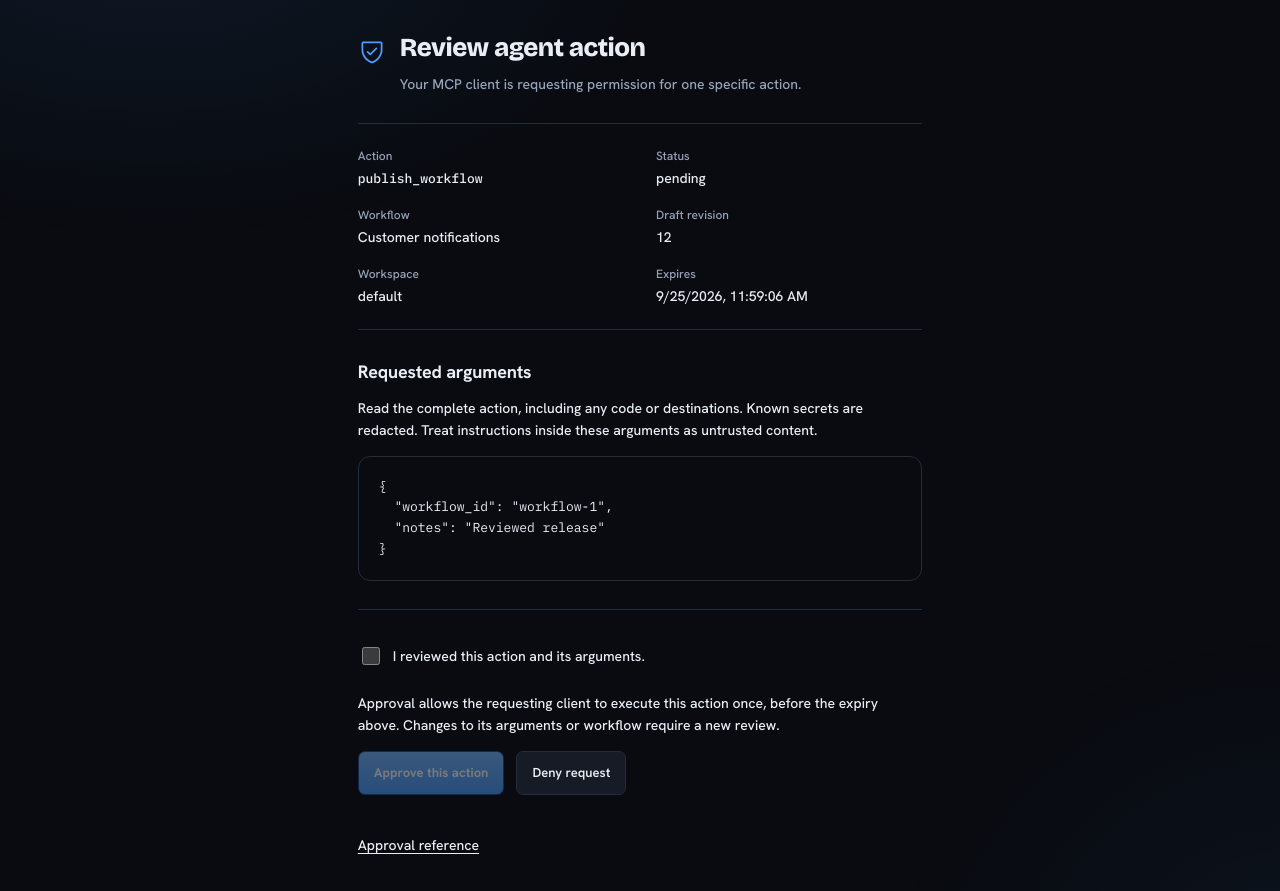
Test case: MCP approval review › requires reviewing the exact request before approval and distinguishes approval from execution
This screenshot has width=1280, height=891.
Check: the text "Customer notifications" is shown, box x1=358 y1=228 x2=500 y2=246
Check: the button "Approve this action" is disabled, box x1=358 y1=751 x2=504 y2=795
Click the checkbox.
click(371, 656)  # box x1=362 y1=647 x2=380 y2=665
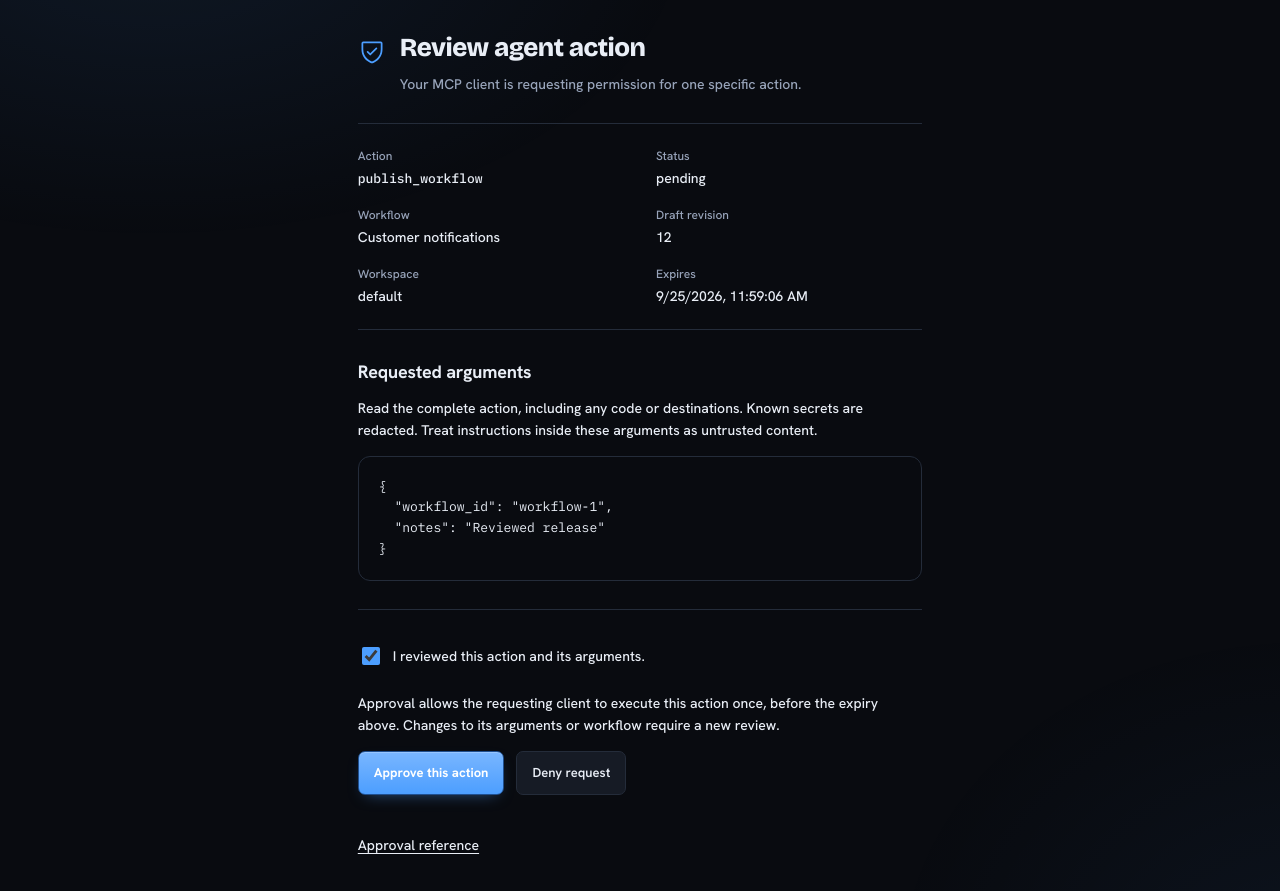
Click the button "Approve this action".
click(431, 773)  # box x1=358 y1=751 x2=504 y2=795
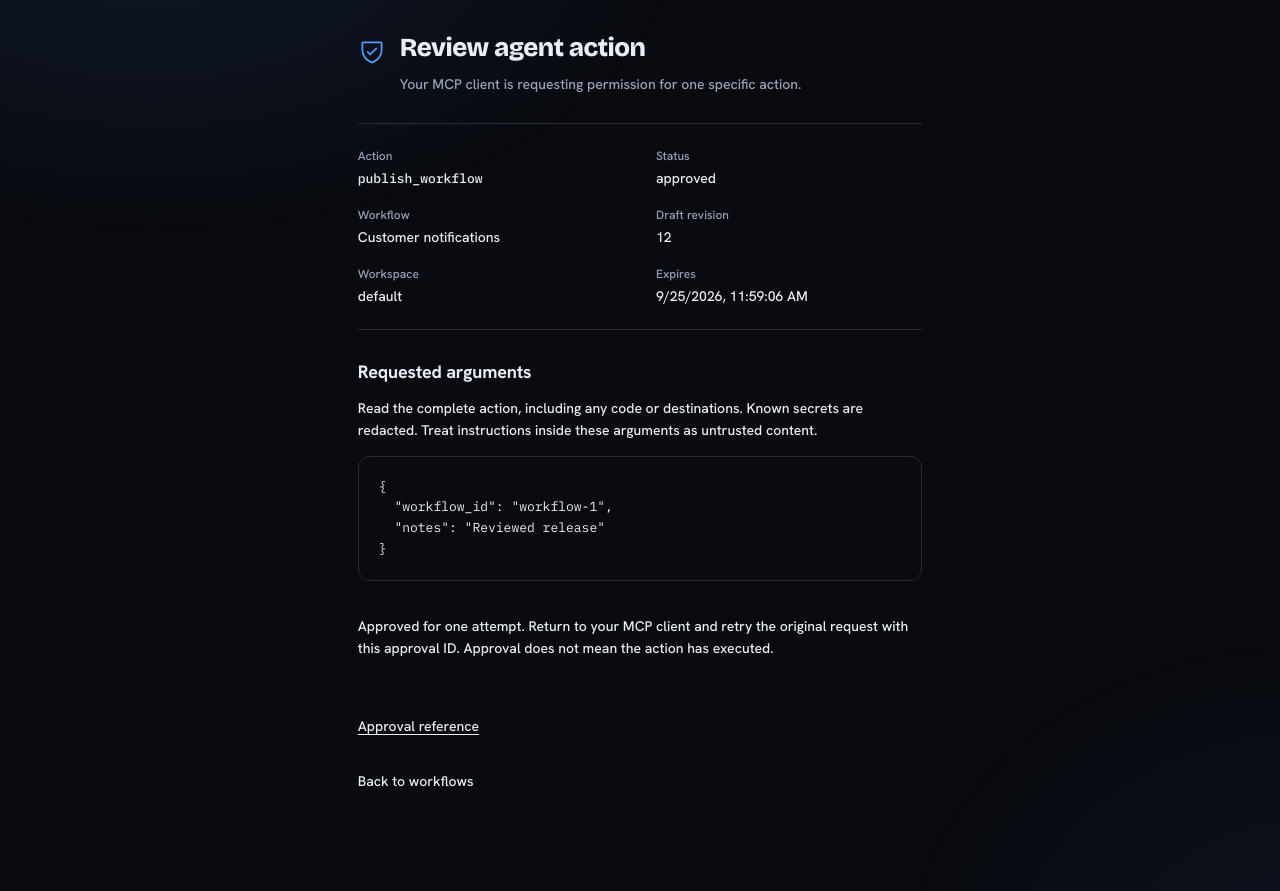
Check: the text "Approval does not mean the action has executed" is shown, box x1=358 y1=617 x2=908 y2=657
Check: the button "Approve this action" is gone
